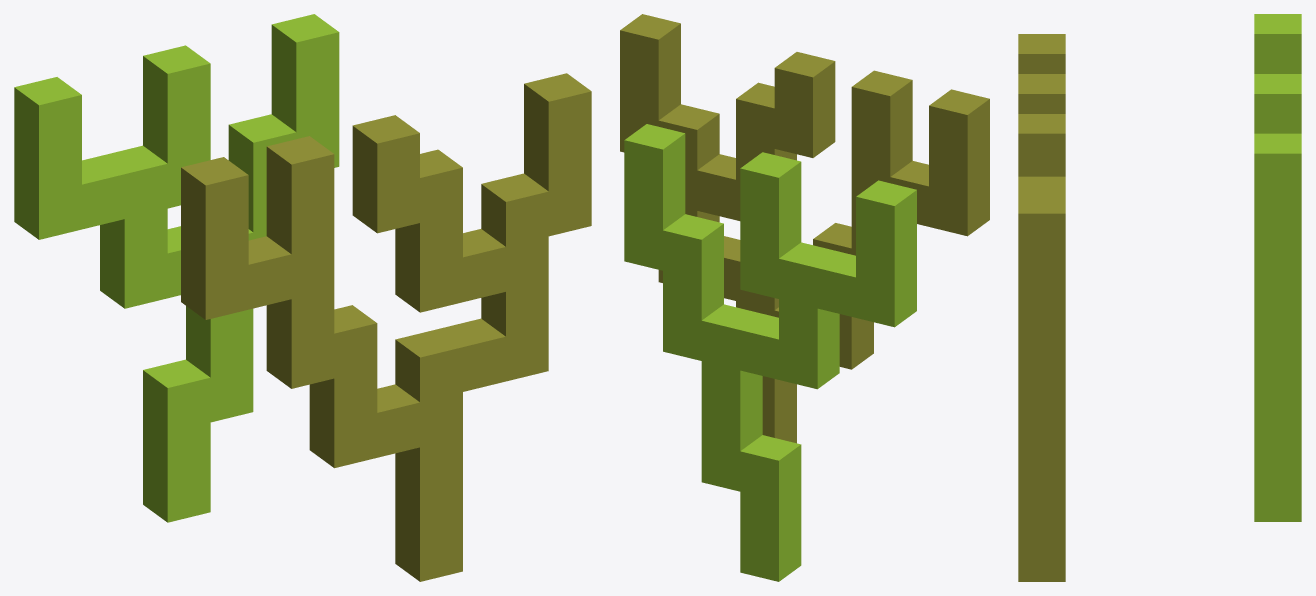
File: water_spike_up.obj
3 views of the same model, side by side, from view 1: azimuth 30°, elevation 25°; view 2: azimuth 150°, elevation 25°; view 3: azimuth 270°, elevation 25° (orthographic). The views are drawn at different scales.
Bounding box in the file's own units: 1 × 1 × 0.6.
1 material, 1 textured.
